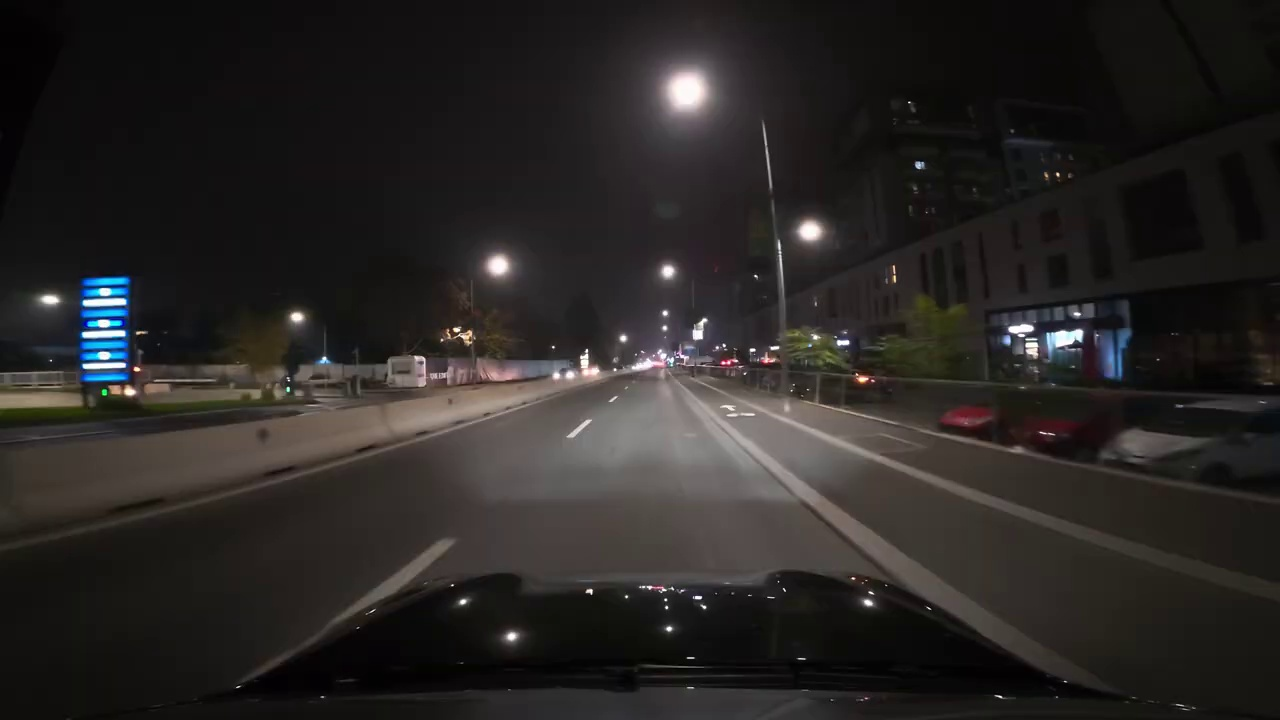acesa: (668, 73, 706, 109), (483, 251, 512, 280), (794, 218, 825, 245), (35, 290, 63, 314), (656, 260, 680, 284), (285, 307, 309, 331)
